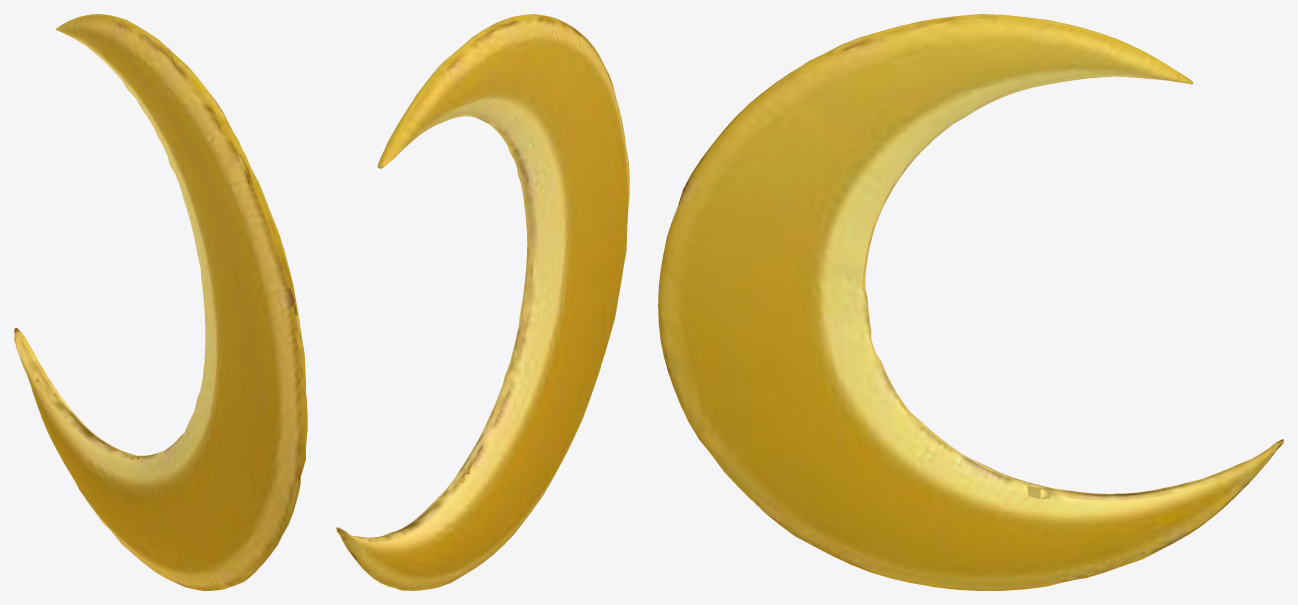
Rendered from proj_moon.glb.
The picture shows the model from 3 angles, left to right: view 1: azimuth 30°, elevation 25°; view 2: azimuth 150°, elevation 25°; view 3: azimuth 270°, elevation 25°; orthographic projection. The views are drawn at different scales.
Parts seen in each view (by area): view 1: proj_moon; view 2: proj_moon; view 3: proj_moon.
Part boxes in pixels (x1,y1,x2,y2): proj_moon: (14, 14, 307, 590); proj_moon: (336, 14, 629, 590); proj_moon: (658, 14, 1283, 590).
Bounding box in the file's own units: 0.0554 × 1 × 0.9851.
Materials: 1 (1 with a texture image).
